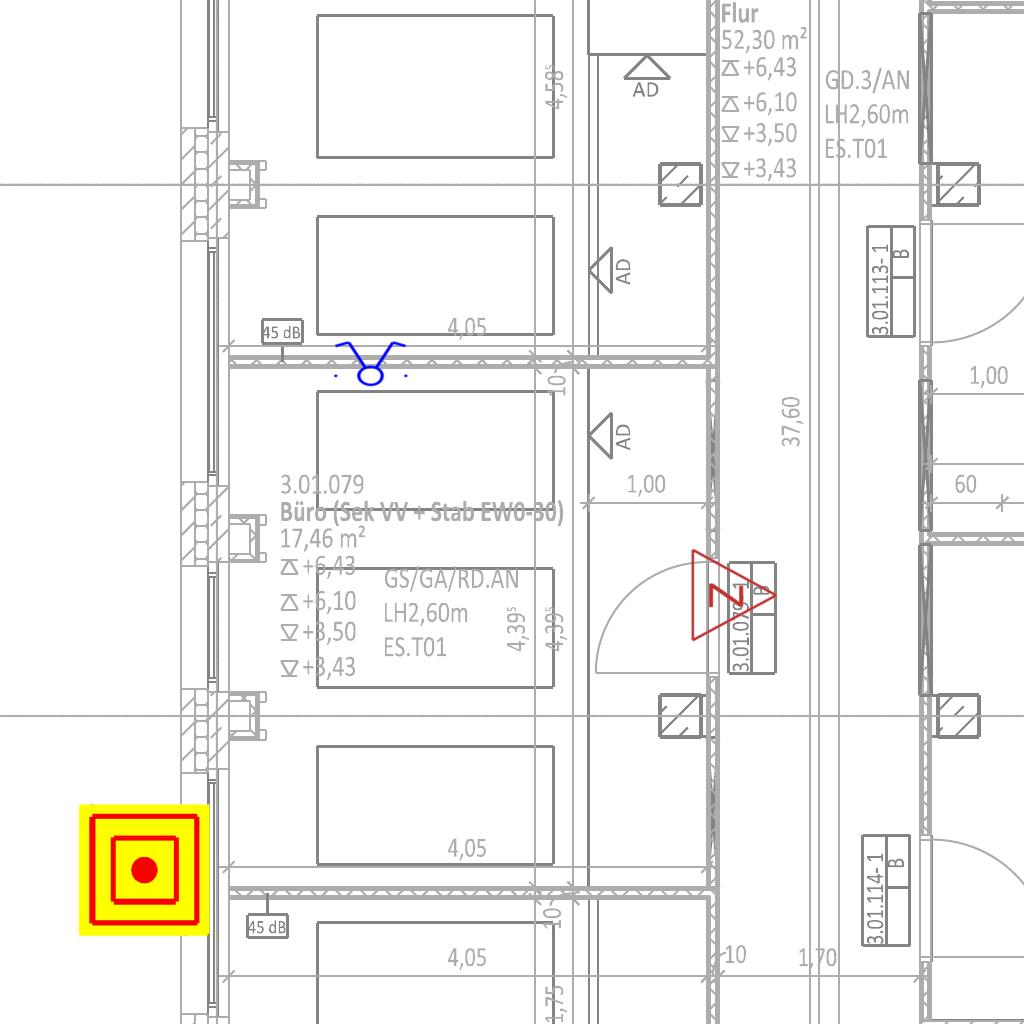NAM-Nichtautomatischer_Melder: (78, 804, 210, 936)
Serienschalter: (328, 339, 412, 387)
Zimmersignalleuchte: (684, 545, 784, 643)
